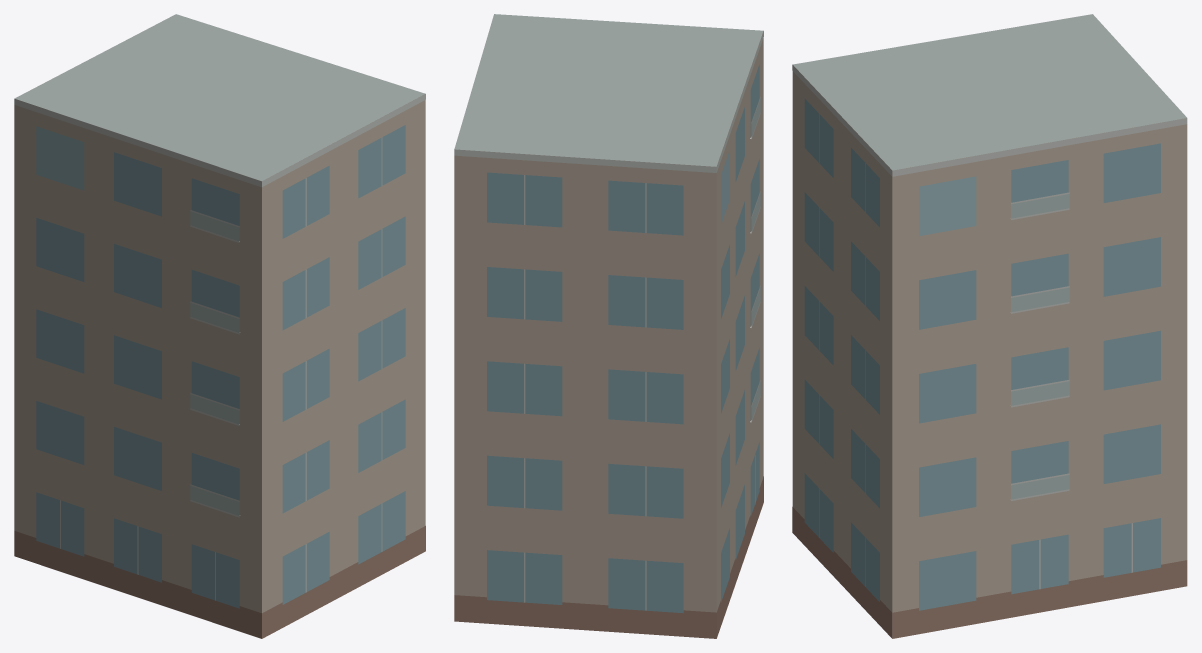
The model's file is survey-upis-32860446.glb.
3 renders of one model, left to right at view 1: azimuth 30°, elevation 25°; view 2: azimuth 150°, elevation 25°; view 3: azimuth 270°, elevation 25°, orthographic. The views are drawn at different scales.
Parts seen in each view (by area): view 1: survey-upis-32860446.tmp; view 2: survey-upis-32860446.tmp; view 3: survey-upis-32860446.tmp.
Part boxes in pixels (x1,y1,x2,y2): survey-upis-32860446.tmp: (14, 14, 425, 638); survey-upis-32860446.tmp: (454, 14, 763, 638); survey-upis-32860446.tmp: (792, 14, 1187, 638).
Size of the model in its own units: 13.28 by 18.5 by 14.15.
